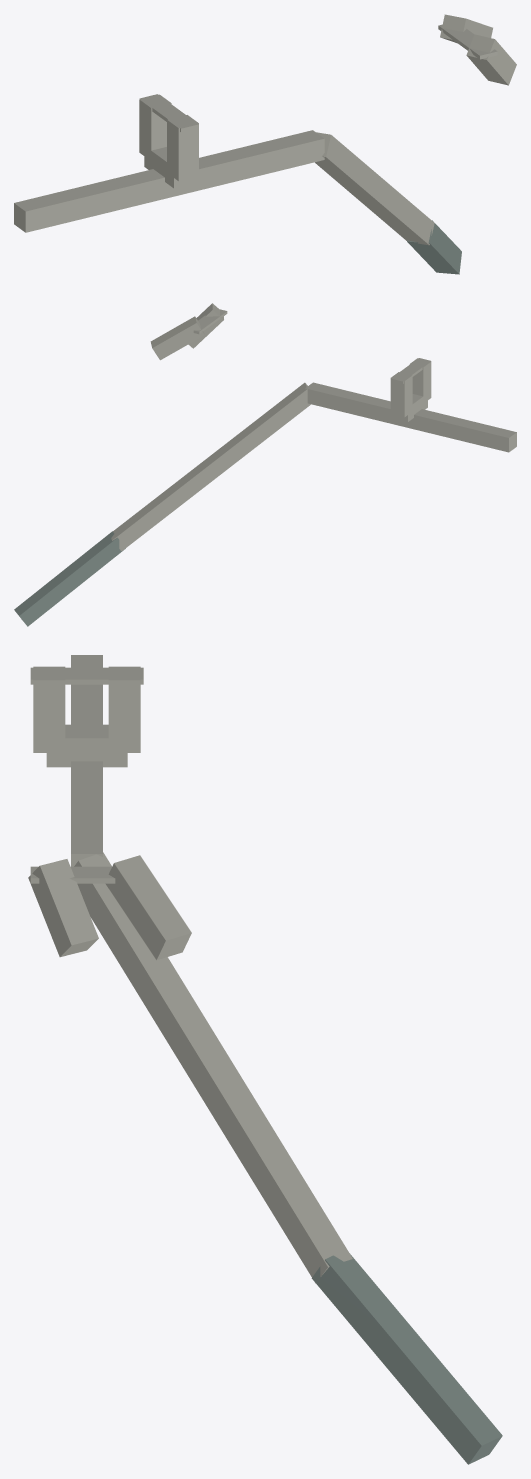
The model's file is SM_CatenariaLosa_v4_Arrancada_LOD1.fbx.
The picture shows the model from 3 angles, top to bottom: view 1: azimuth 30°, elevation 25°; view 2: azimuth 150°, elevation 25°; view 3: azimuth 270°, elevation 25°; orthographic projection. The views are drawn at different scales.
Visible parts, largest first — view 1: SM_catenaria_losa_v4_LOD1; view 2: SM_catenaria_losa_v4_LOD1; view 3: SM_catenaria_losa_v4_LOD1.
Part boxes in pixels (bbox=[...]): SM_catenaria_losa_v4_LOD1: bbox=[14, 14, 516, 274]; SM_catenaria_losa_v4_LOD1: bbox=[14, 303, 516, 626]; SM_catenaria_losa_v4_LOD1: bbox=[28, 655, 502, 1464].
Size of the model in its own units: 9.82 by 6.09 by 5.04.
